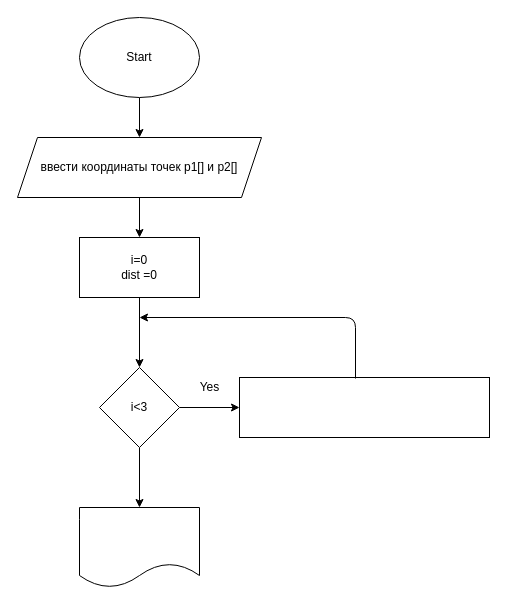
Some shapes in this 507 by 605 pixel diagram are drawn without their labels. Here are the shapes that lost their labels. From the top down, the centre of each, then its label:
At (364,407): "dist+=p1[i]*p2[i] i++".
At (139,547): "print sqrt (dist)".
